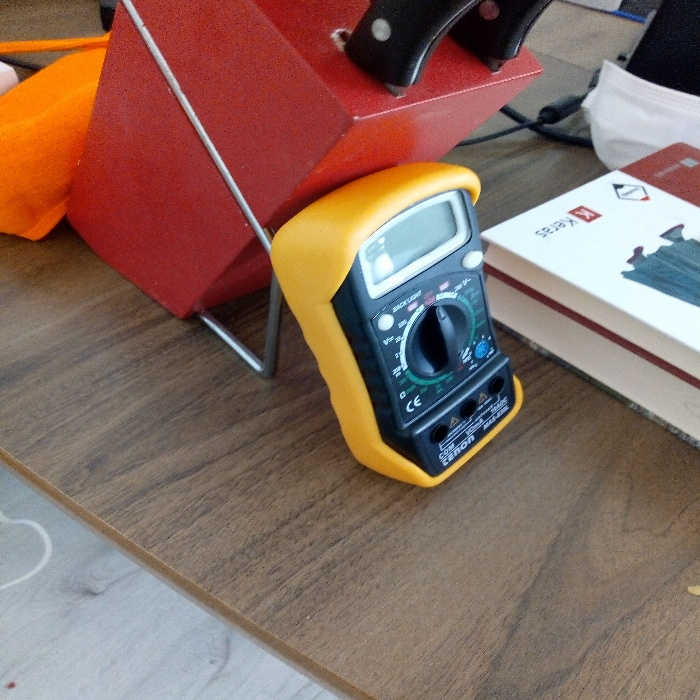multimetre: (259, 157, 567, 506)
